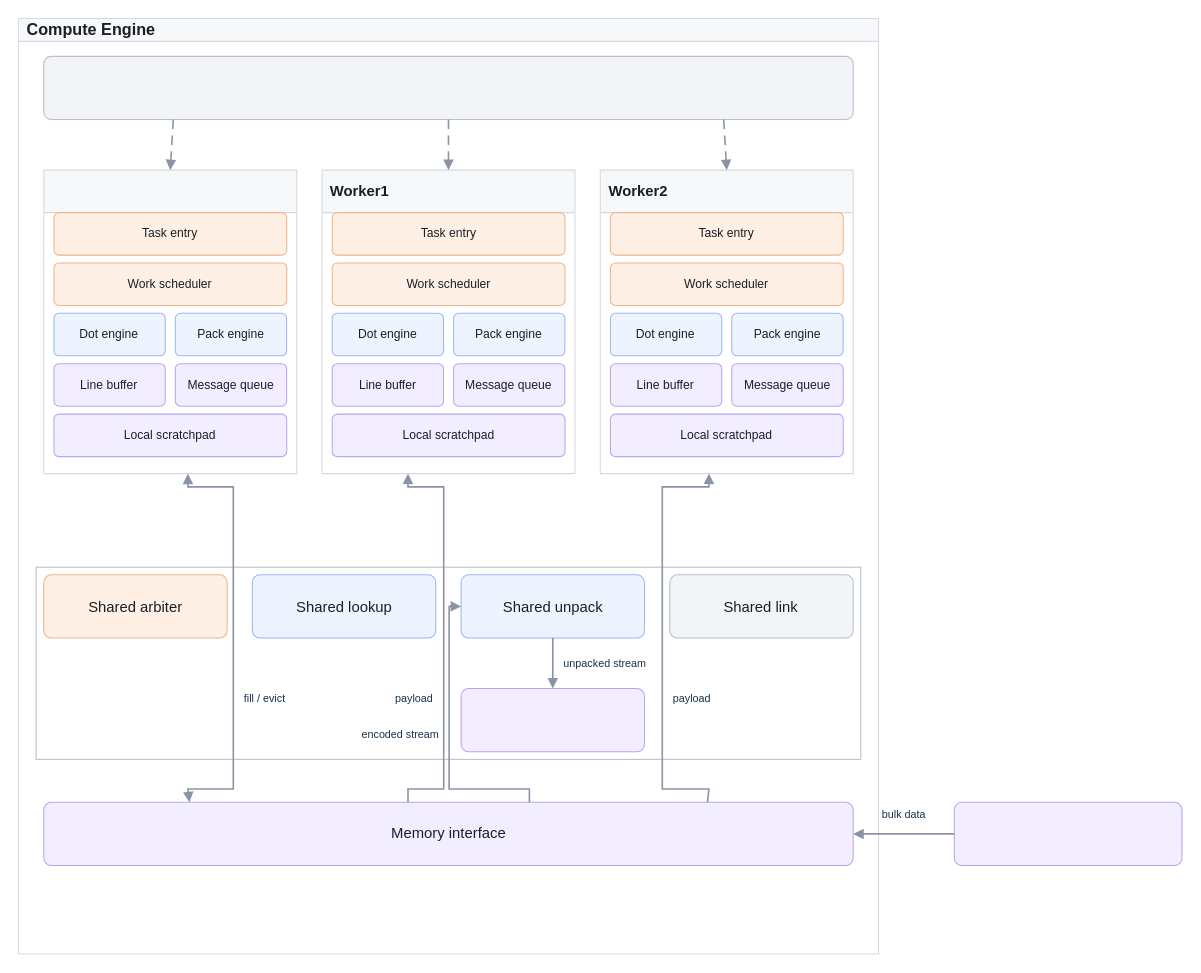
Image size: 1201x973. Some labels were removed from this diagram. Each missing label, with the box of its shape:
Command source: (43, 55, 853, 120)
External storage: (953, 801, 1182, 865)
Shared services: (35, 566, 861, 759)
Shared staging: (460, 688, 644, 752)
Worker0 private resources: (43, 169, 297, 474)
